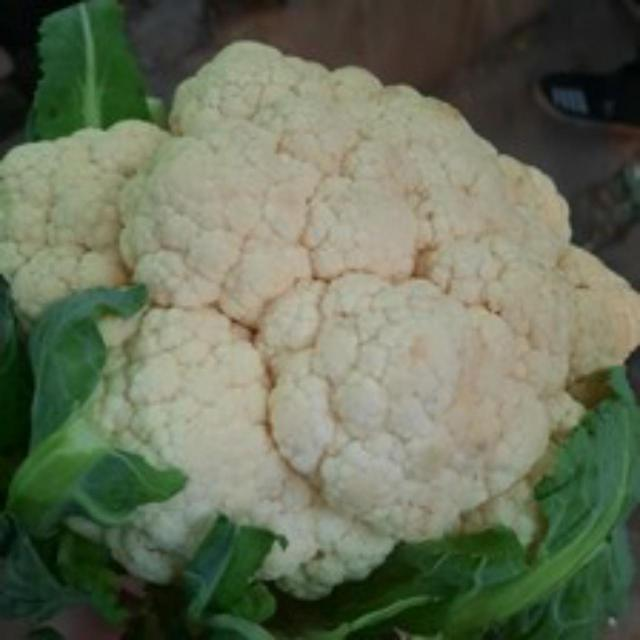cauliflower: (5, 34, 640, 594)
